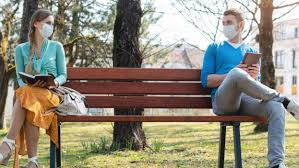with-mask: (214, 8, 249, 43), (25, 7, 60, 40)
